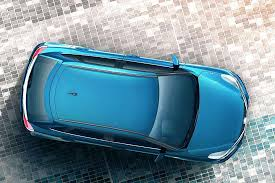car: (19, 38, 250, 168)
